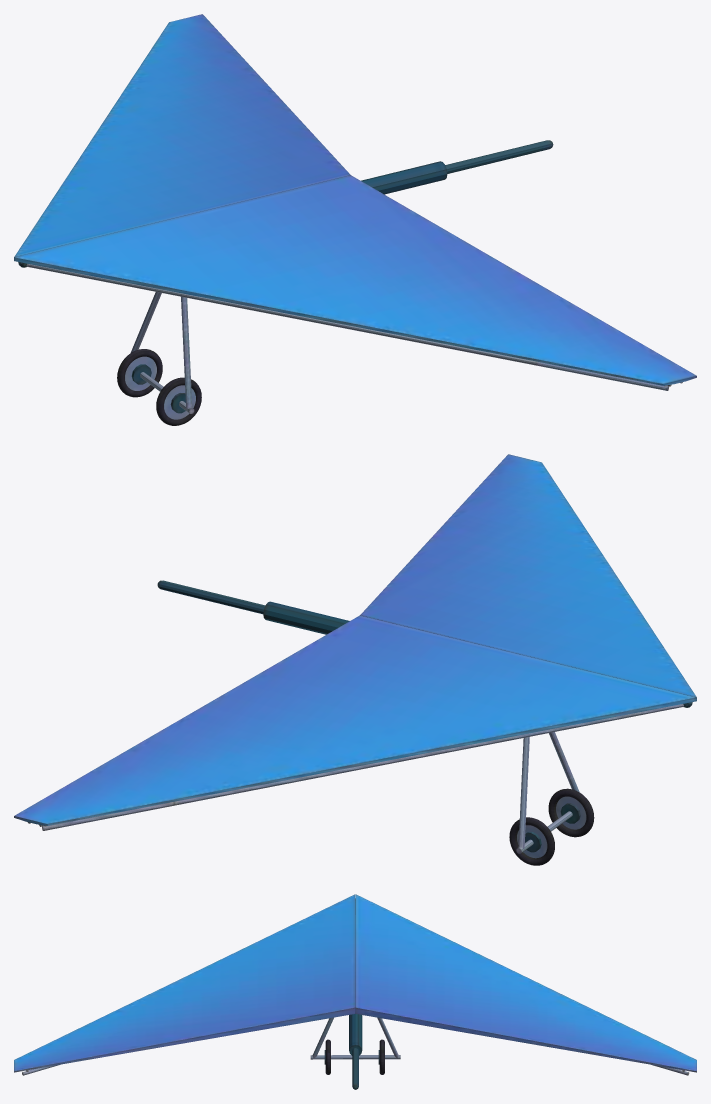
The model's file is bIRUD686yoA.glb.
3 views of the same model, one above another, from view 1: azimuth 30°, elevation 25°; view 2: azimuth 150°, elevation 25°; view 3: azimuth 270°, elevation 25° (orthographic). The views are drawn at different scales.
Parts seen in each view (by area): view 1: Node; view 2: Node; view 3: Node.
Part boxes in pixels (box(x1,y1,x2,y2)): Node: box(14, 14, 696, 425); Node: box(14, 454, 696, 865); Node: box(14, 894, 696, 1089).
Size of the model in its own units: 2.99 by 1 by 4.75.
1 material, 1 textured.
